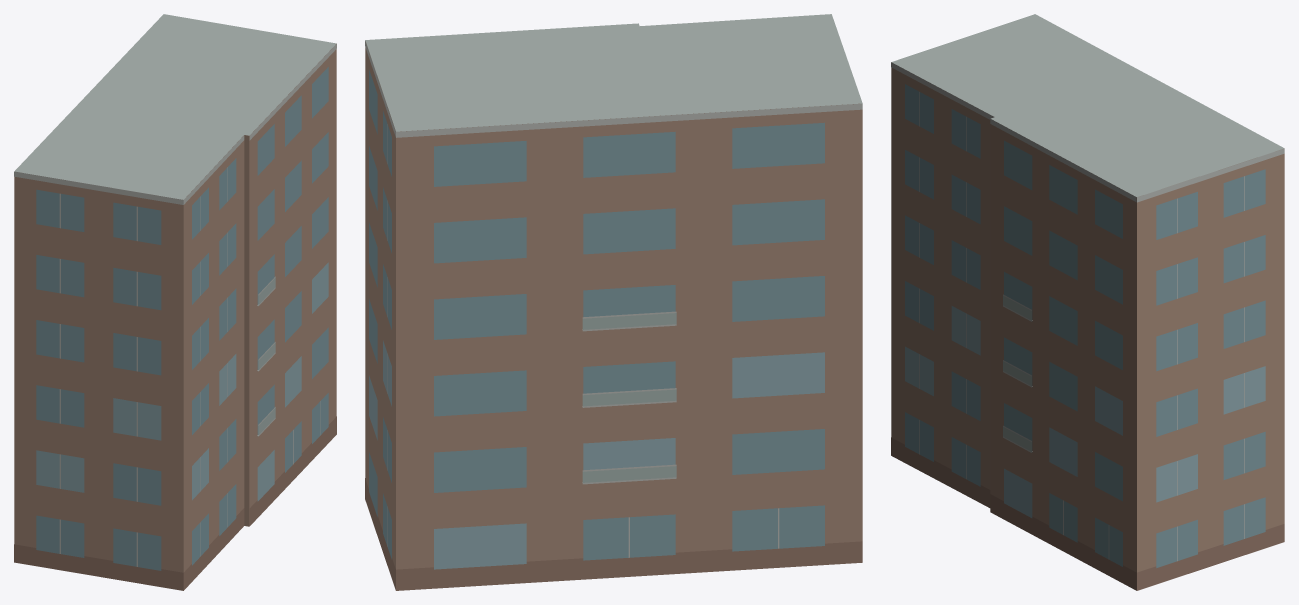
File: survey-upis-32742260.glb
3 views of the same model, side by side, from view 1: azimuth 30°, elevation 25°; view 2: azimuth 150°, elevation 25°; view 3: azimuth 270°, elevation 25° (orthographic). The views are drawn at different scales.
Parts seen in each view (by area): view 1: survey-upis-32742260.tmp; view 2: survey-upis-32742260.tmp; view 3: survey-upis-32742260.tmp.
Boxes of the visible parts, x1,y1,x2,y2 form: survey-upis-32742260.tmp: [14, 14, 336, 590]; survey-upis-32742260.tmp: [365, 14, 862, 590]; survey-upis-32742260.tmp: [891, 14, 1284, 590].
Size of the model in its own units: 18.28 by 18.3 by 16.59.
